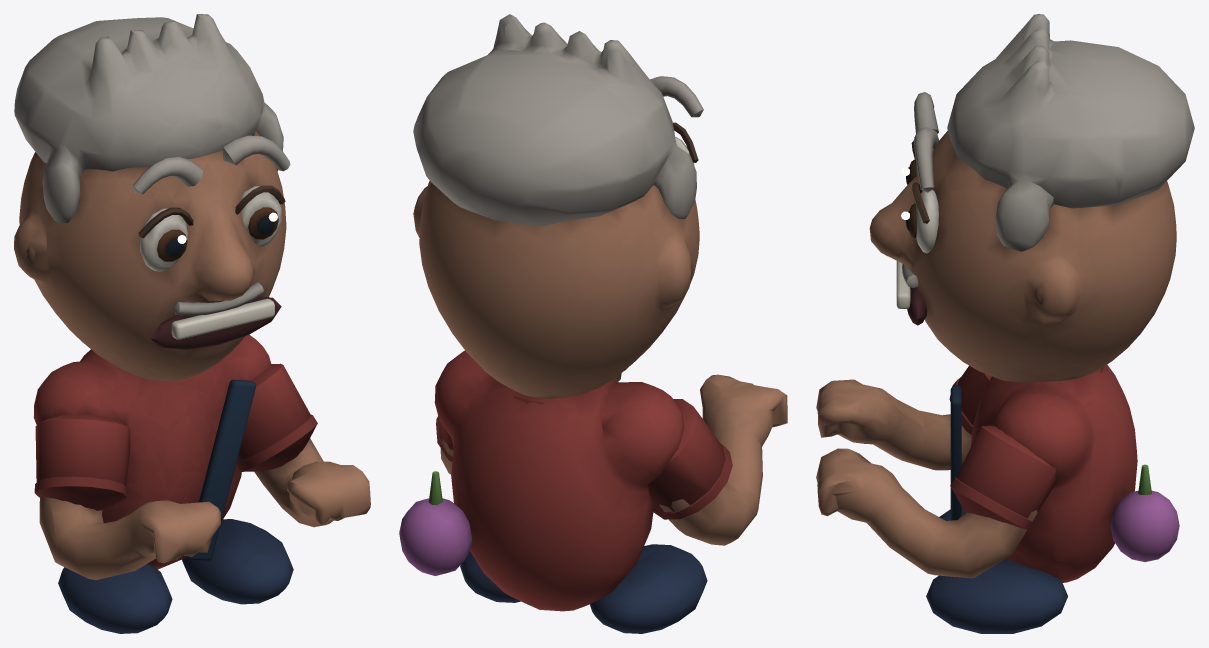
The model's file is enanonitas.glb.
3 views of the same model, side by side, from view 1: azimuth 30°, elevation 25°; view 2: azimuth 150°, elevation 25°; view 3: azimuth 270°, elevation 25° (orthographic). The views are drawn at different scales.
Visible parts, largest first — view 1: enanonitas-head-root-soft-c18b6e, enanonitas-head-root-soft-bdb6ad, enanonitas-root-soft-ab4944, enanonitas-root-344465-r85, enanonitas-arm-right-soft-c18b6e, enanonitas-arm-left-soft-c18b6e, enanonitas-arm-right-ab4944-r85, enanonitas-arm-left-ab4944-r85, enanonitas-root-263b54-r70, enanonitas-head-root-bdb6ad-r70, enanonitas-arm-right-893a36-r85, enanonitas-eyes-fff8e8-r25 (+6 smaller); view 2: enanonitas-root-soft-ab4944, enanonitas-head-root-soft-c18b6e, enanonitas-head-root-soft-bdb6ad, enanonitas-arm-right-soft-c18b6e, enanonitas-root-344465-r85, enanonitas-arm-right-ab4944-r85, enanonitas-root-b770b8-r70, enanonitas-arm-right-893a36-r85, enanonitas-head-root-bdb6ad-r70; view 3: enanonitas-head-root-soft-c18b6e, enanonitas-head-root-soft-bdb6ad, enanonitas-root-soft-ab4944, enanonitas-arm-left-soft-c18b6e, enanonitas-arm-right-soft-c18b6e, enanonitas-root-344465-r85, enanonitas-arm-left-ab4944-r85, enanonitas-root-b770b8-r70, enanonitas-head-root-bdb6ad-r70, enanonitas-arm-left-893a36-r85, enanonitas-root-263b54-r70, enanonitas-arm-right-ab4944-r85 (+2 smaller).
Part boxes in pixels (x1,y1,x2,y2): enanonitas-head-root-soft-c18b6e: [14, 130, 286, 380]; enanonitas-head-root-soft-bdb6ad: [14, 14, 283, 222]; enanonitas-root-soft-ab4944: [33, 334, 271, 569]; enanonitas-root-344465-r85: [58, 519, 293, 633]; enanonitas-arm-right-soft-c18b6e: [39, 497, 220, 580]; enanonitas-arm-left-soft-c18b6e: [254, 438, 370, 527]; enanonitas-arm-right-ab4944-r85: [35, 414, 130, 486]; enanonitas-arm-left-ab4944-r85: [237, 363, 310, 461]; enanonitas-root-263b54-r70: [185, 379, 255, 560]; enanonitas-head-root-bdb6ad-r70: [133, 135, 290, 194]; enanonitas-arm-right-893a36-r85: [34, 476, 127, 510]; enanonitas-eyes-fff8e8-r25: [140, 186, 281, 271]; enanonitas-root-soft-ab4944: [434, 350, 684, 611]; enanonitas-head-root-soft-c18b6e: [413, 181, 699, 398]; enanonitas-head-root-soft-bdb6ad: [413, 14, 696, 225]; enanonitas-arm-right-soft-c18b6e: [659, 374, 787, 545]; enanonitas-root-344465-r85: [460, 544, 707, 633]; enanonitas-arm-right-ab4944-r85: [647, 399, 725, 511]; enanonitas-root-b770b8-r70: [399, 498, 472, 575]; enanonitas-arm-right-893a36-r85: [653, 444, 732, 519]; enanonitas-head-root-bdb6ad-r70: [650, 76, 703, 117]; enanonitas-head-root-soft-c18b6e: [869, 131, 1176, 382]; enanonitas-head-root-soft-bdb6ad: [947, 14, 1194, 251]; enanonitas-root-soft-ab4944: [971, 364, 1137, 582]; enanonitas-arm-left-soft-c18b6e: [816, 448, 1037, 578]; enanonitas-arm-right-soft-c18b6e: [816, 379, 971, 470]; enanonitas-root-344465-r85: [926, 507, 1067, 633]; enanonitas-arm-left-ab4944-r85: [956, 425, 1057, 518]; enanonitas-root-b770b8-r70: [1110, 490, 1179, 561]; enanonitas-head-root-bdb6ad-r70: [914, 92, 938, 192]; enanonitas-arm-left-893a36-r85: [950, 477, 1032, 530]; enanonitas-root-263b54-r70: [950, 385, 961, 520]; enanonitas-arm-right-ab4944-r85: [958, 365, 991, 424].
Bounding box in the file's own units: 1.01 × 1.97 × 1.21.
